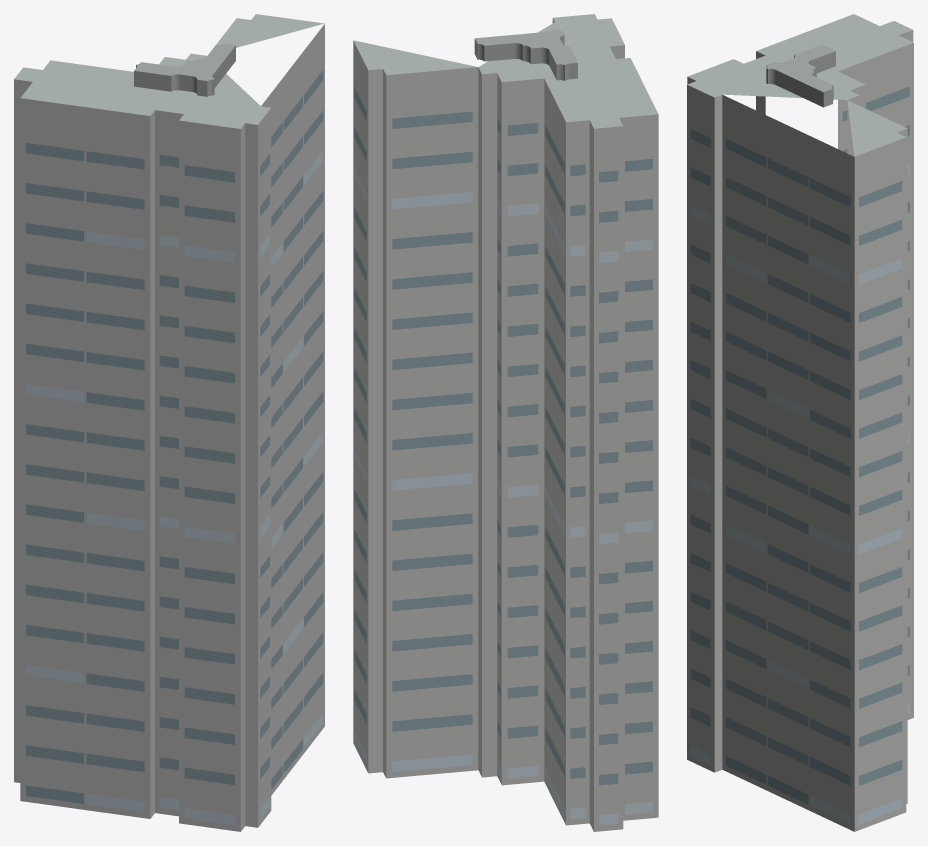
The model's file is fallback-gaepo-xi-presidence-419.glb.
3 renders of one model, left to right at view 1: azimuth 30°, elevation 25°; view 2: azimuth 150°, elevation 25°; view 3: azimuth 270°, elevation 25°, orthographic. The views are drawn at different scales.
Parts seen in each view (by area): view 1: fallback-gaepo-xi-presidence-419; view 2: fallback-gaepo-xi-presidence-419; view 3: fallback-gaepo-xi-presidence-419.
Part boxes in pixels (x1,y1,x2,y2): fallback-gaepo-xi-presidence-419: (14,14,324,831); fallback-gaepo-xi-presidence-419: (353,14,658,831); fallback-gaepo-xi-presidence-419: (687,14,913,831).
Bounding box in the file's own units: 48.46 × 109 × 32.52.
